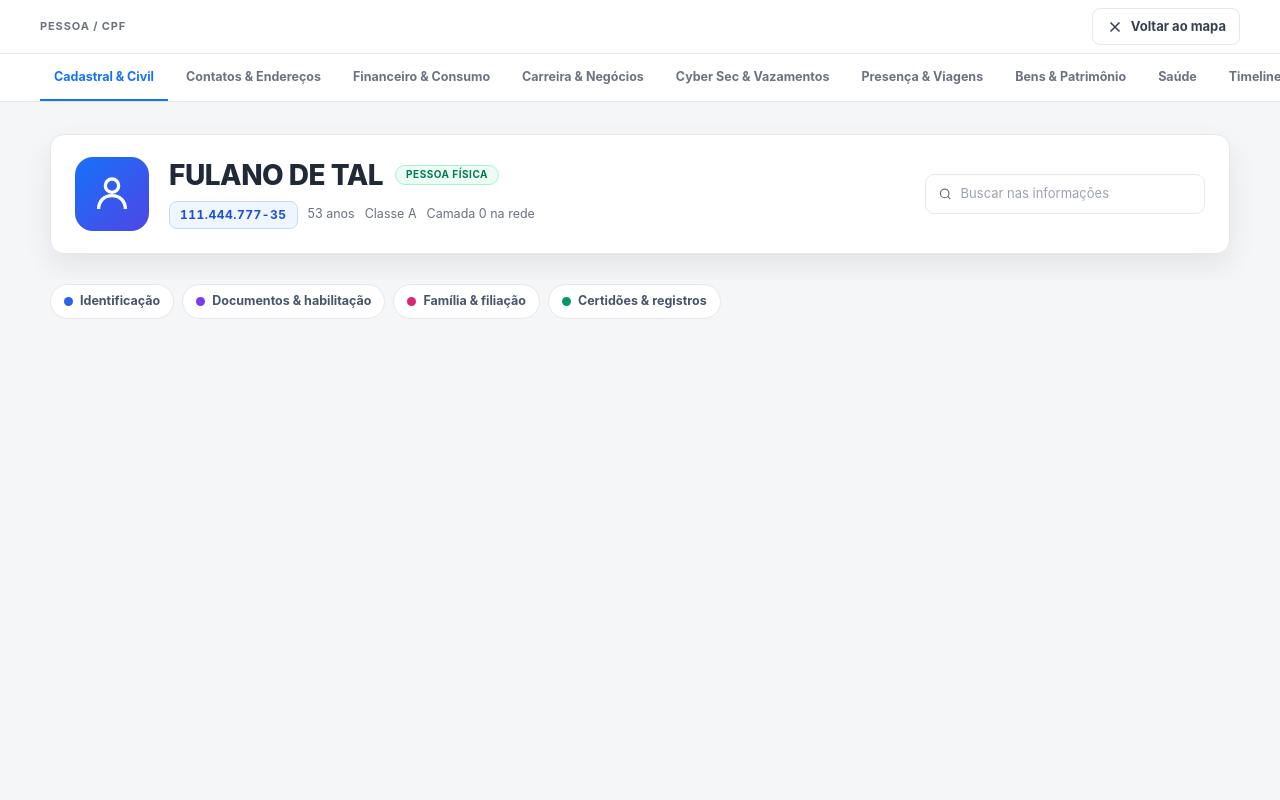
EntityDetail — pessoa em tela cheia com o dicionário de campos › trocar de aba muda o conteúdo (Bens & Patrimônio mostra estado vazio)
Click the button "Bens & Patrimônio" at [1071, 77], box [1001,54,1140,101]
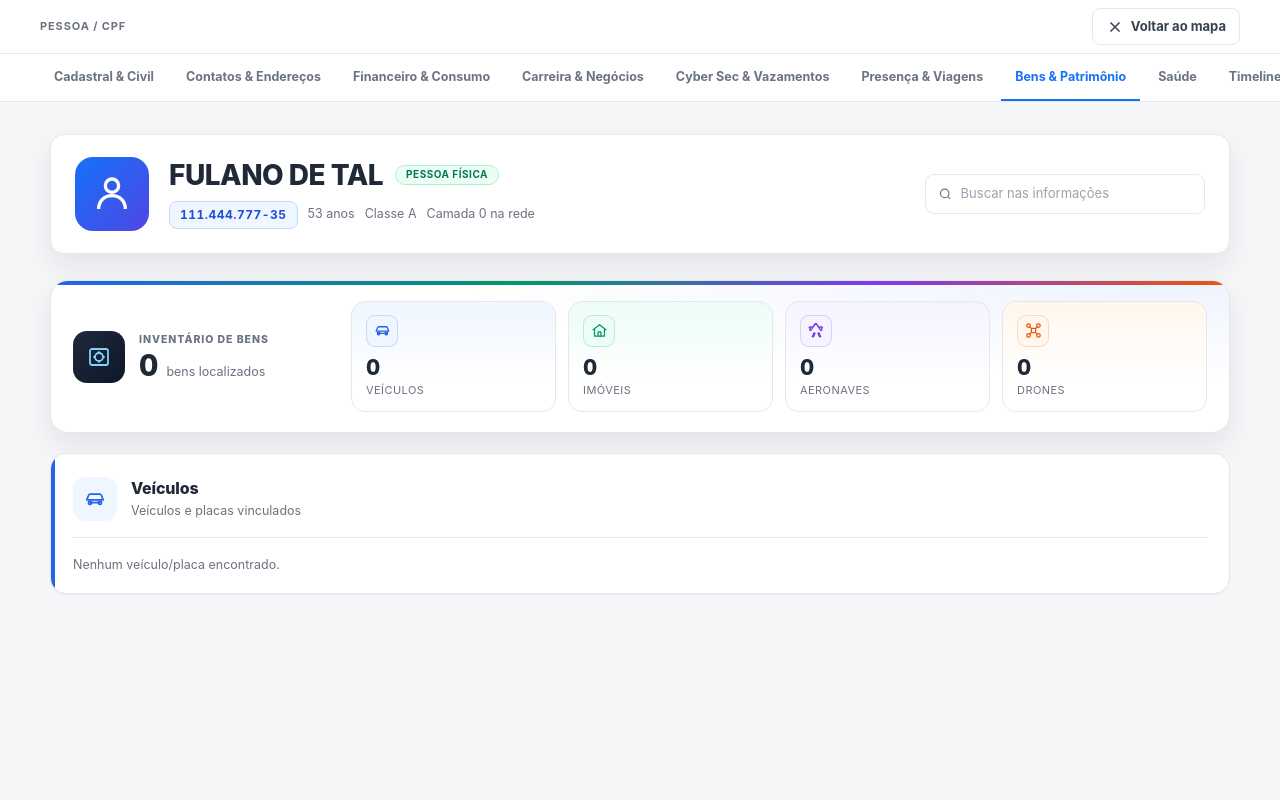
Check: the text "Nenhum veículo/placa encontrado." is shown, box [73,557,280,572]
